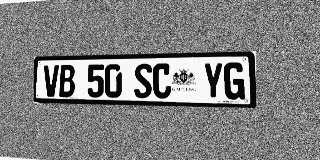0: (105, 64, 122, 98)
5: (88, 64, 104, 97)
B: (59, 65, 75, 97)
C: (153, 63, 171, 99)
G: (224, 62, 245, 100)
S: (134, 63, 152, 98)
V: (44, 65, 59, 97)
Y: (203, 62, 223, 99)
